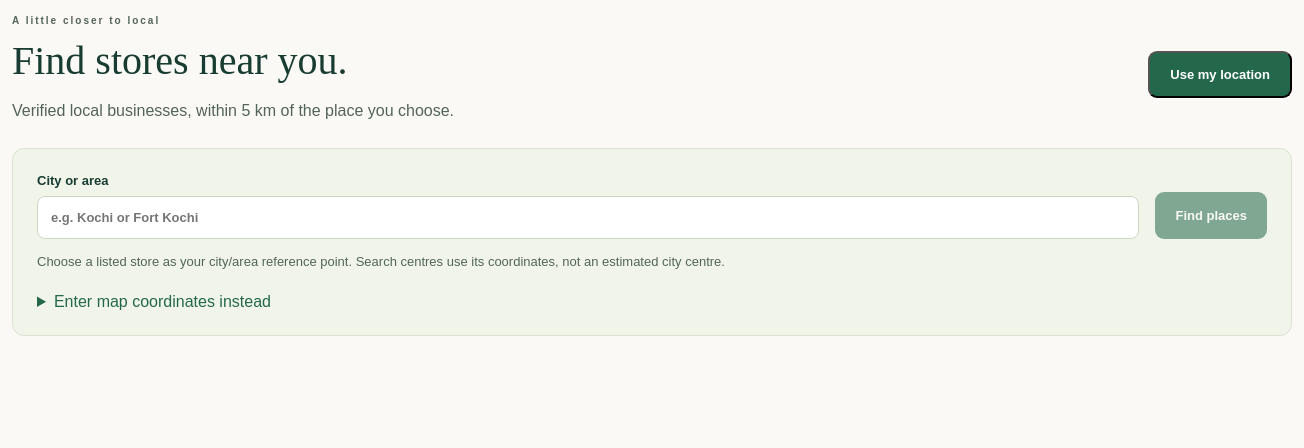
Test: empty manual catalogue explains coordinate fallback
The image size is (1304, 448).
Expected: the button "Use my location" is enabled, [1148,51,1292,98]
In the field labelled "City or area": (588, 218) [37,196,1140,239], type "Unknown town"
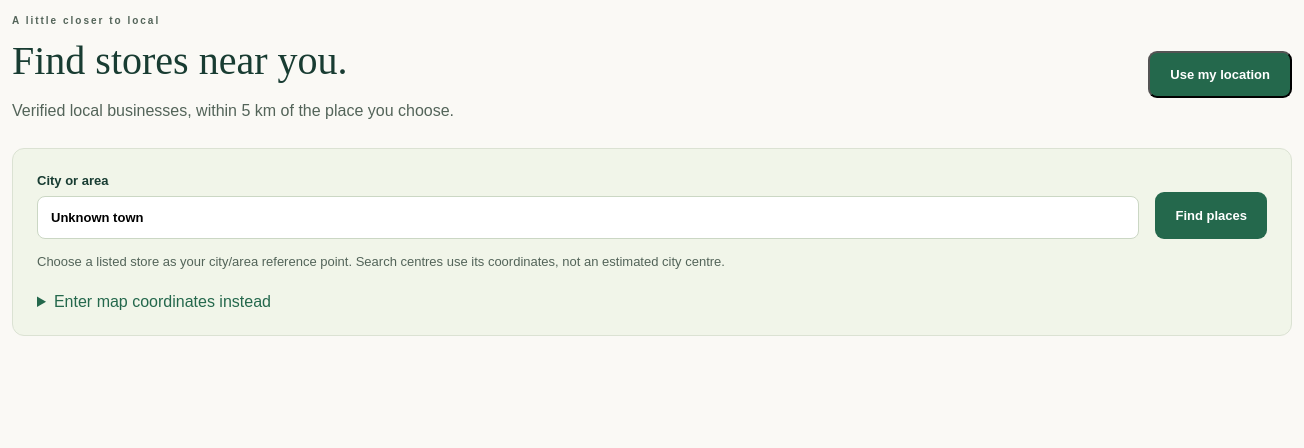
Click the button "Find places": (1211, 216) [1156,192,1267,239]
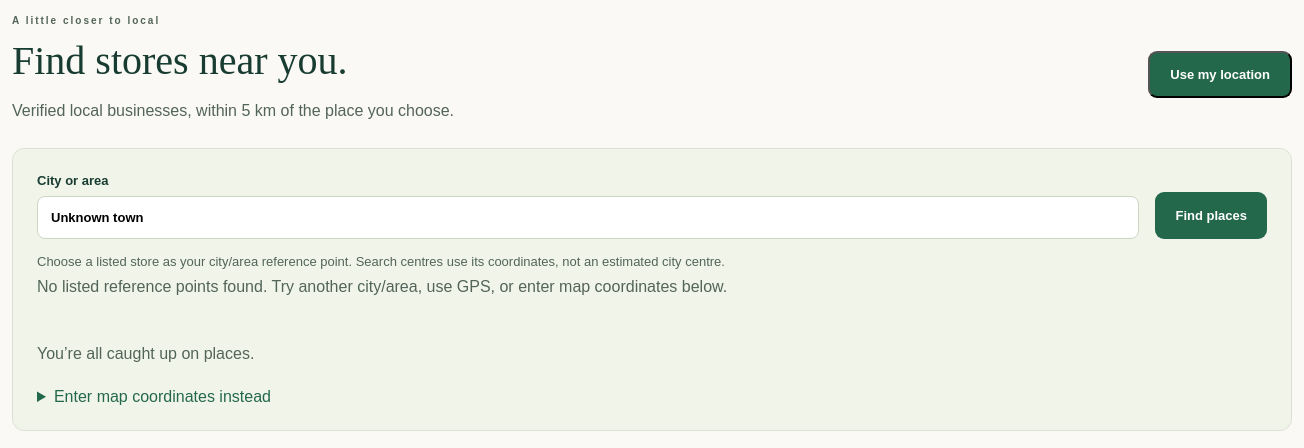
Expected: the text "No listed reference points found" is shown, [37,278,727,295]
